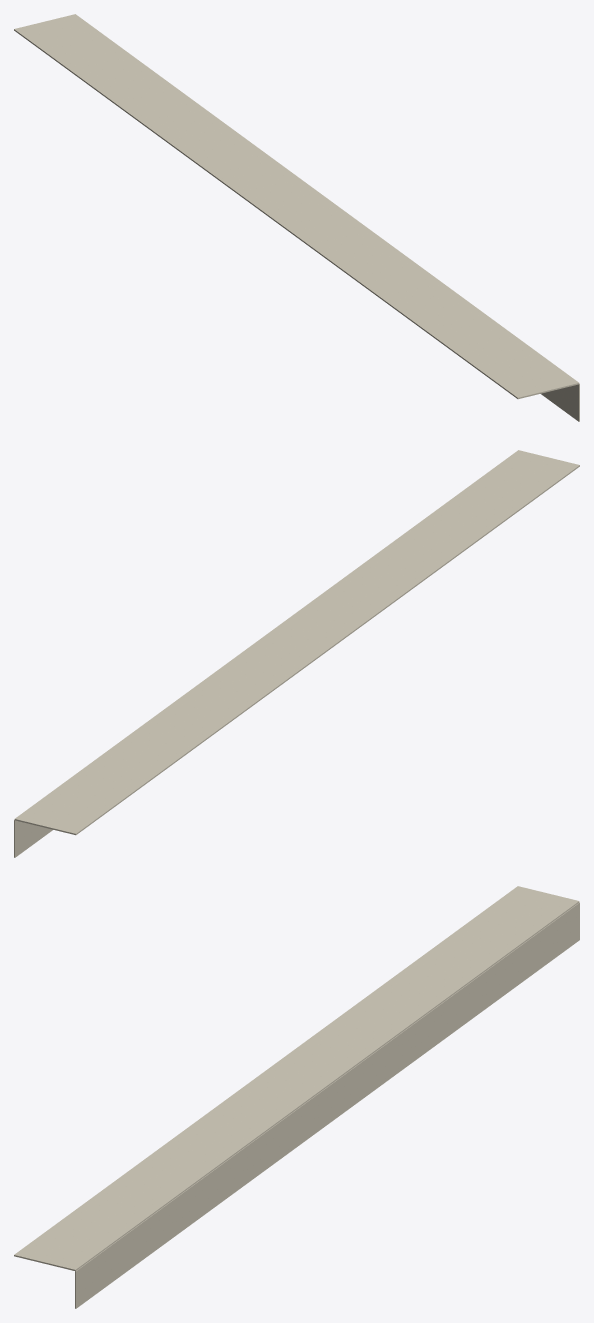
File: SERVICE_D09_PA_inner_02__shell.glb
The picture shows the model from 3 angles, top to bottom: view 1: azimuth 30°, elevation 25°; view 2: azimuth 150°, elevation 25°; view 3: azimuth 330°, elevation 25°; orthographic projection.
Visible parts, largest first — view 1: SERVICE_D09_PA_inner_02__shell__ivory_enamel; view 2: SERVICE_D09_PA_inner_02__shell__ivory_enamel; view 3: SERVICE_D09_PA_inner_02__shell__ivory_enamel.
Boxes of the visible parts, left/top/right/bottom form: SERVICE_D09_PA_inner_02__shell__ivory_enamel: left=14, top=14, right=579, bottom=421; SERVICE_D09_PA_inner_02__shell__ivory_enamel: left=14, top=450, right=579, bottom=857; SERVICE_D09_PA_inner_02__shell__ivory_enamel: left=14, top=886, right=579, bottom=1308.
Bounding box in the file's own units: 5.55 × 3.32 × 78.
2 materials, 1 textured.
